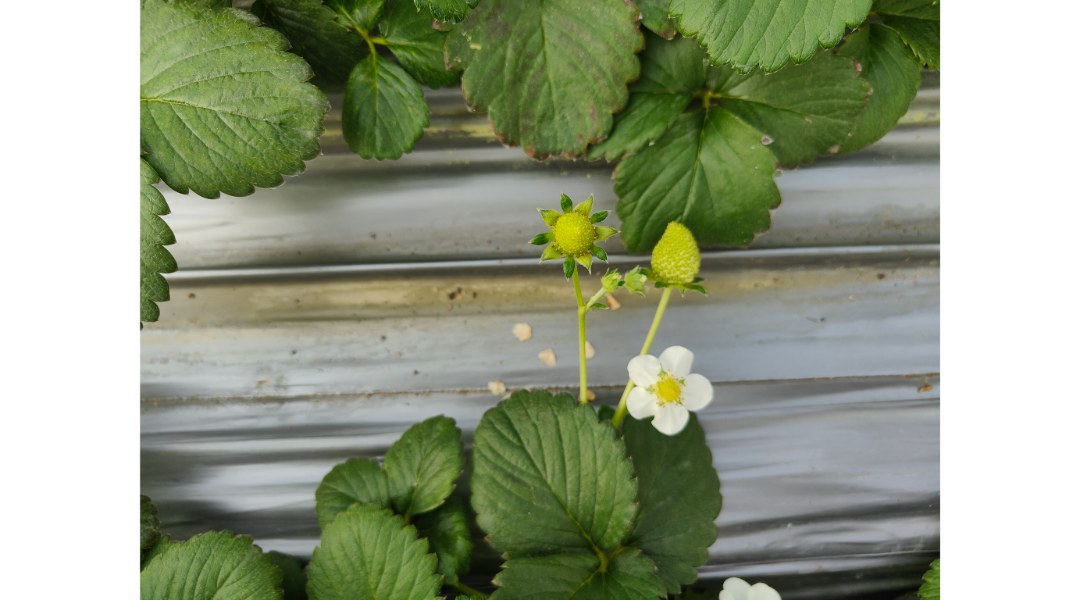berry: (535, 188, 617, 280), (651, 206, 712, 302)
flower: (623, 349, 722, 448)
strain: (564, 276, 596, 421), (642, 294, 668, 340)
